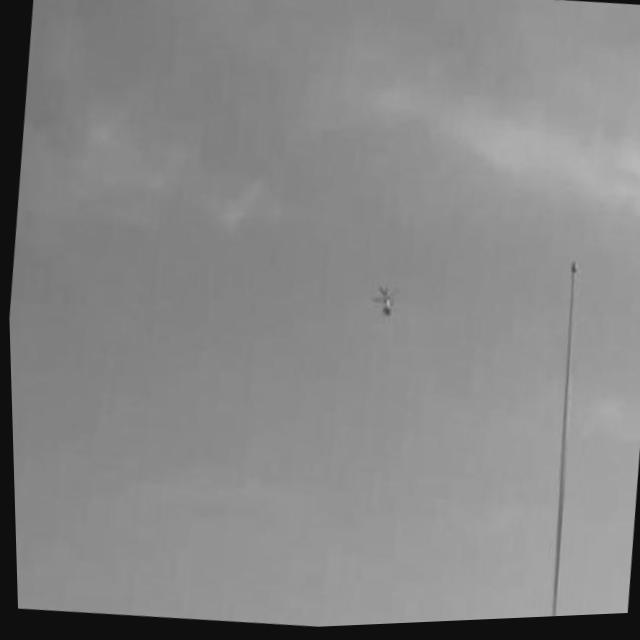helikopter: (367, 281, 403, 334)
